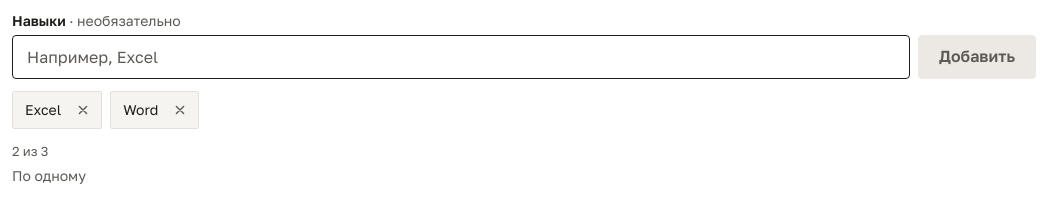
Test: skills input › locks the field when the list is full and opens it again after a removal
In the field labelled "Навыки · необязательно": (461, 57) [12,35,910,79], type "R"
Then press Enter
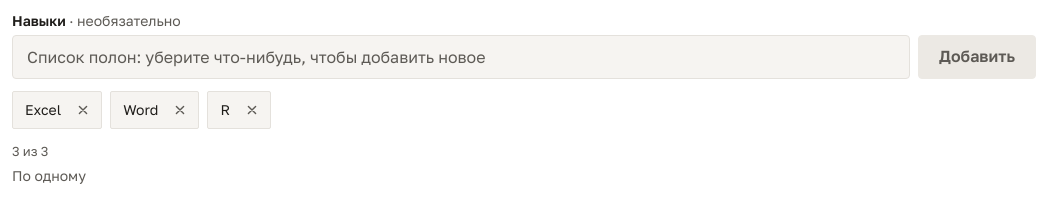
Expected: the button "Добавить" is disabled, [918,35,1036,79]
Now the field labelled "Навыки · необязательно" is disabled, box [12,35,910,79]
Now the text "3 из 3" is shown, box [12,143,48,159]
Click the button named "Убрать навык «Word»": (180, 110) [162,92,198,128]
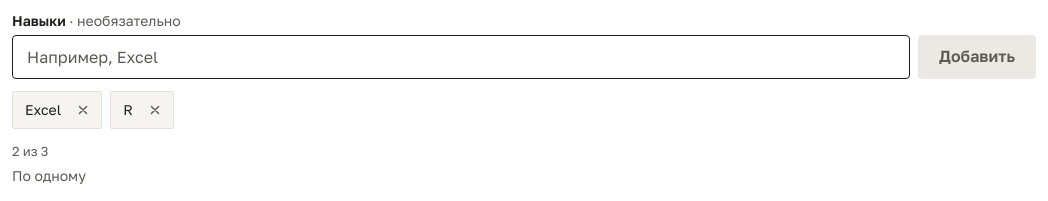
Now the field labelled "Навыки · необязательно" is enabled, box [12,35,910,79]
